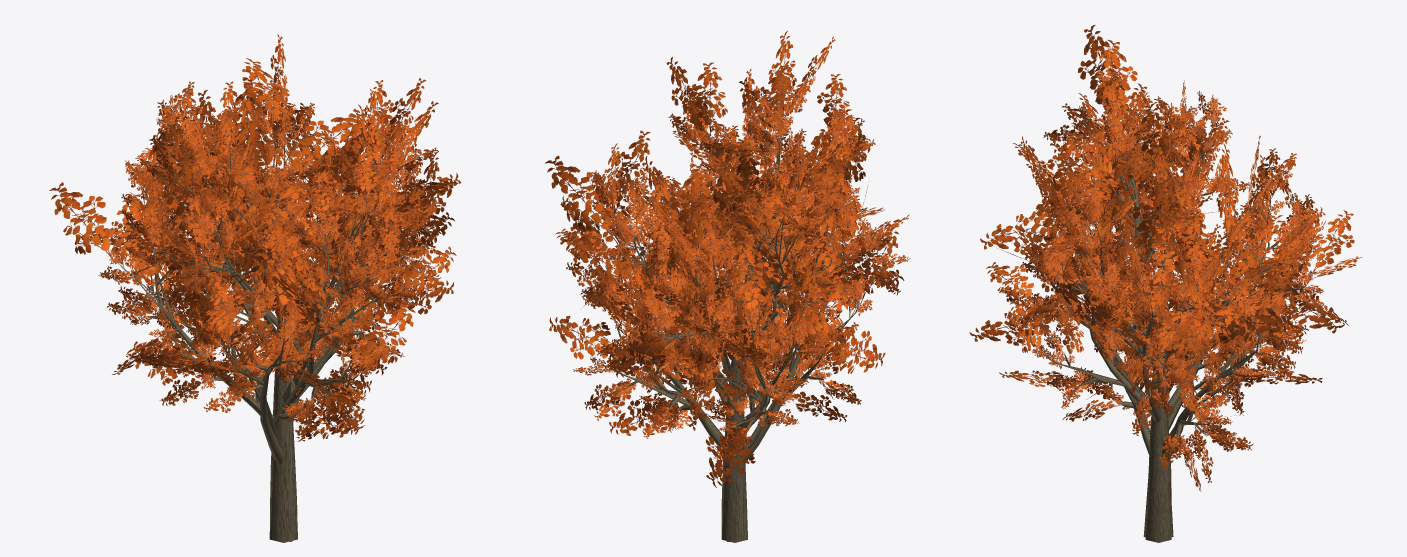
Rendered from tree_maple_autumn.glb.
The picture shows the model from 3 angles, left to right: view 1: azimuth 30°, elevation 25°; view 2: azimuth 150°, elevation 25°; view 3: azimuth 270°, elevation 25°; orthographic projection. The views are drawn at different scales.
Visible parts, largest first — view 1: LOD1_leaves, LOD0_leaves, LOD0_trunk, LOD1_trunk; view 2: LOD1_leaves, LOD0_leaves, LOD0_trunk, LOD1_trunk; view 3: LOD1_leaves, LOD0_leaves, LOD0_trunk, LOD1_trunk.
Boxes of the visible parts, box(x1,y1,x2,y2) form: LOD1_leaves: box(49, 34, 461, 441); LOD0_leaves: box(98, 81, 441, 425); LOD0_trunk: box(119, 125, 417, 542); LOD1_trunk: box(120, 127, 416, 541); LOD1_leaves: box(545, 31, 910, 487); LOD0_leaves: box(566, 79, 900, 464); LOD0_trunk: box(611, 119, 875, 542); LOD1_trunk: box(613, 123, 875, 541); LOD1_leaves: box(969, 24, 1362, 491); LOD0_leaves: box(1020, 70, 1323, 469); LOD0_trunk: box(1039, 117, 1311, 542); LOD1_trunk: box(1045, 124, 1309, 539).
Bounding box in the file's own units: 10.69 × 12.91 × 10.54.
2 materials, 2 textured.
